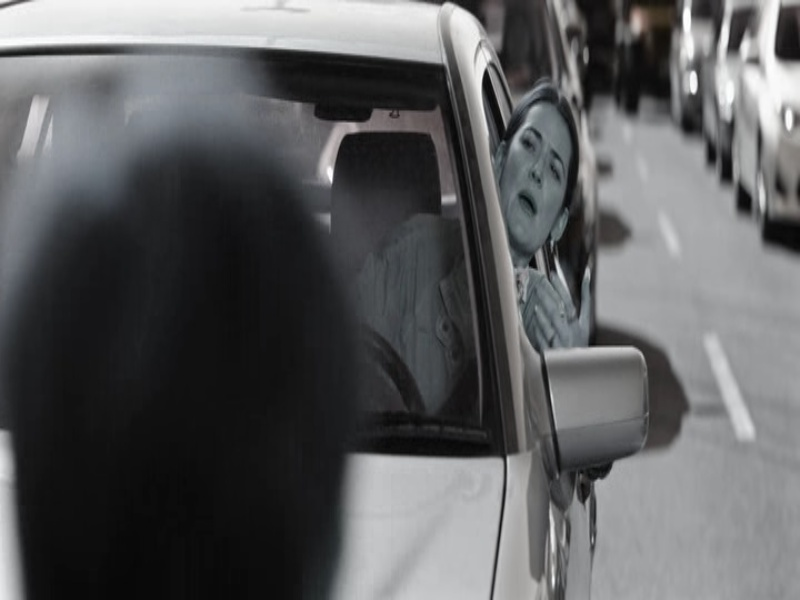TsisyArotava: (481, 81, 597, 269)
